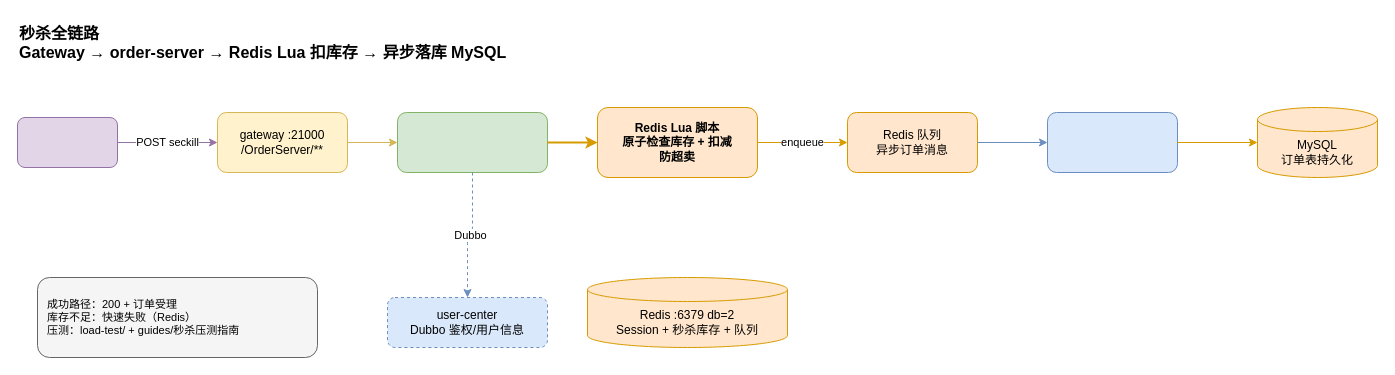
The diagram is 1395 pixels wide and 375 high, and some of its shapes have lost their labels. Here are the shapes that lost their labels. From the top down, the box of each, then its label:
(16, 116, 118, 168): 用户/压测 k6
(396, 112, 548, 172): order-server :8087 Shiro 校验 Session
(1046, 112, 1178, 172): 消费者/异步任务 落库订单
